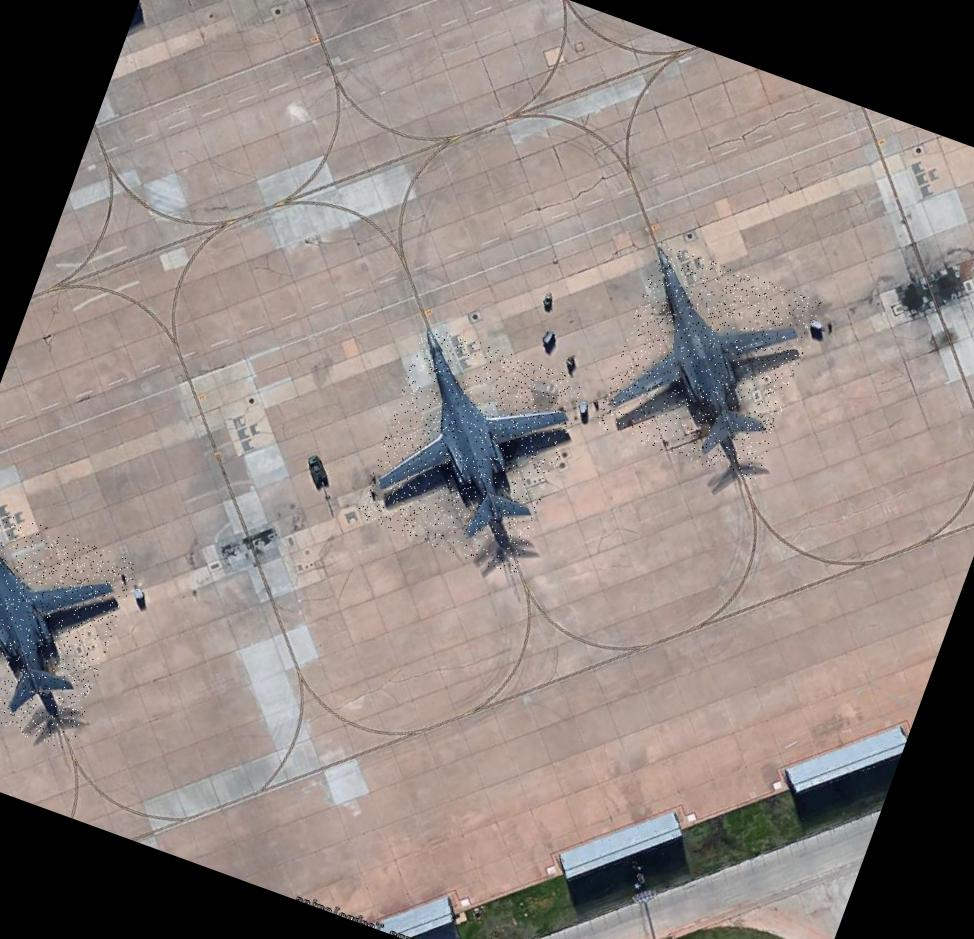A10: (356, 322, 588, 576), (594, 242, 822, 484), (0, 499, 140, 752)
